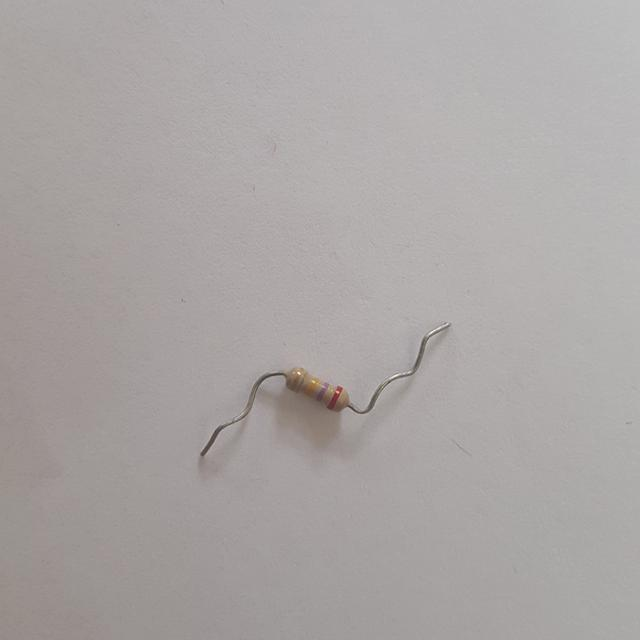gold: (293, 368, 303, 390)
red: (326, 386, 343, 409)
resistor: (274, 346, 363, 426)
violet: (315, 383, 327, 401)
yellow: (307, 378, 317, 394)
